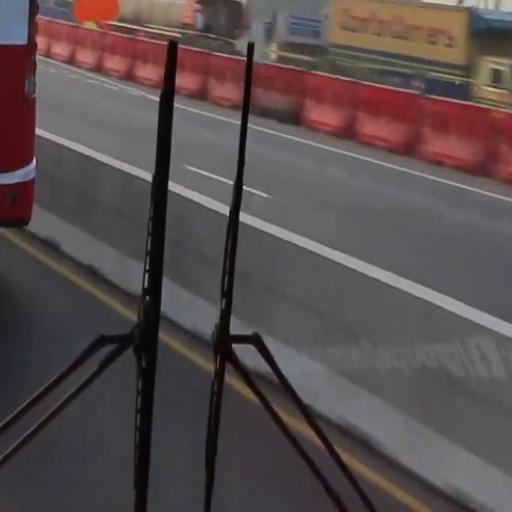bus: (2, 3, 39, 224)
truck: (327, 4, 512, 100)
